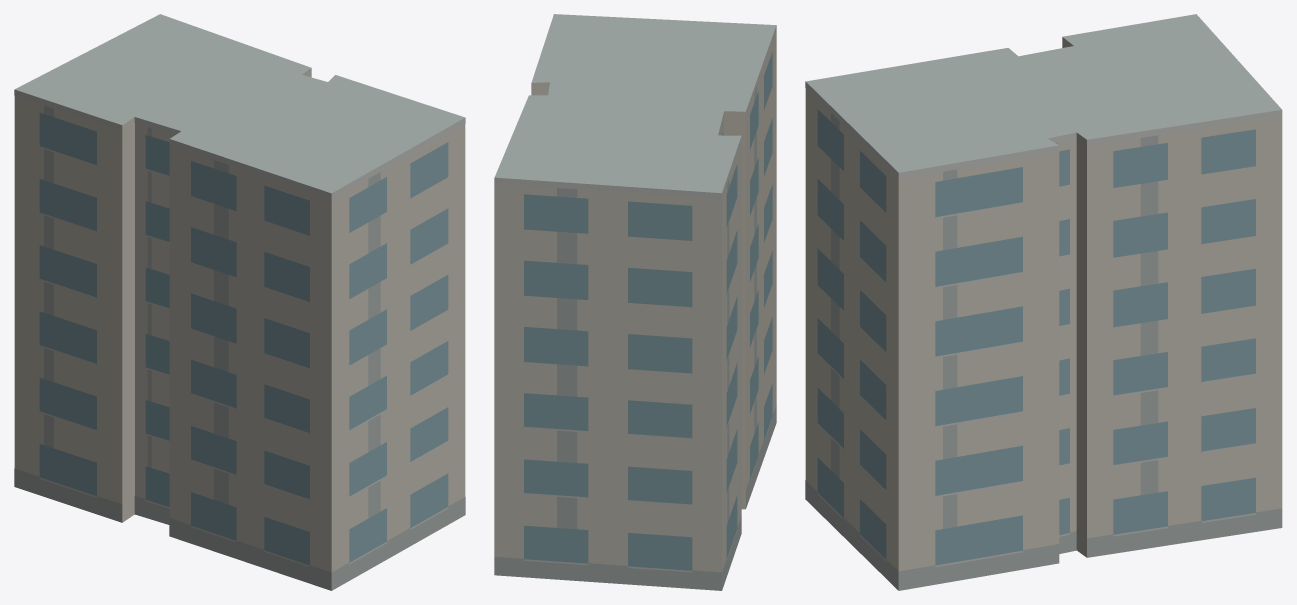
File: survey-upis-32646691.glb
The picture shows the model from 3 angles, left to right: view 1: azimuth 30°, elevation 25°; view 2: azimuth 150°, elevation 25°; view 3: azimuth 270°, elevation 25°; orthographic projection. The views are drawn at different scales.
Visible parts, largest first — view 1: survey-upis-32646691.tmp; view 2: survey-upis-32646691.tmp; view 3: survey-upis-32646691.tmp.
Boxes of the visible parts, box(x1,y1,x2,y2) form: survey-upis-32646691.tmp: box(14, 14, 465, 590); survey-upis-32646691.tmp: box(494, 14, 776, 590); survey-upis-32646691.tmp: box(805, 14, 1282, 590).
Size of the model in its own units: 12.84 by 15.75 by 16.29.
